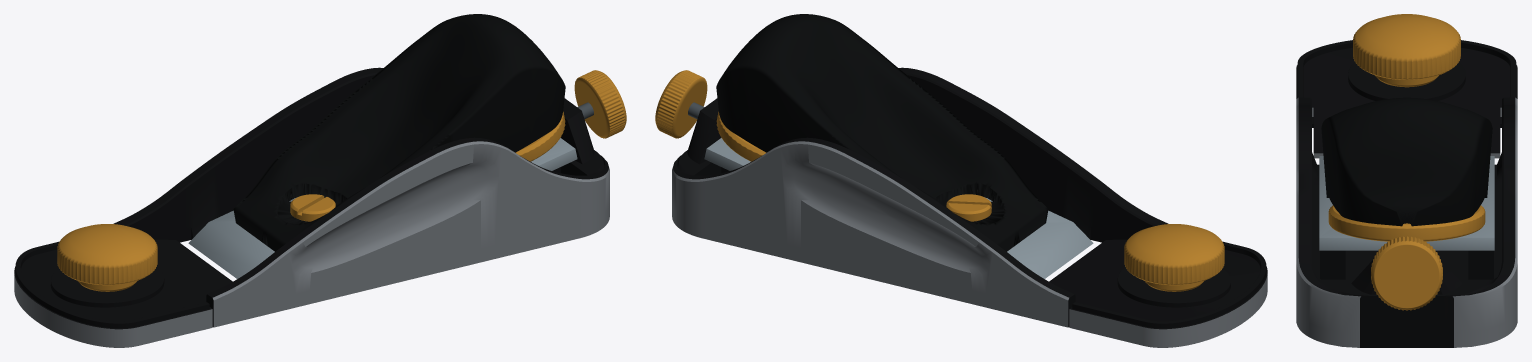
The picture shows the model from 3 angles, left to right: view 1: azimuth 30°, elevation 25°; view 2: azimuth 150°, elevation 25°; view 3: azimuth 270°, elevation 25°; orthographic projection. The views are drawn at different scales.
Parts seen in each view (by area): view 1: part_007_Main_casting, part_003_Palm_lever_cap, part_006_Main_casting, part_000_Sliding_mouth_toe, part_005_Mouth_locking_knob, part_001_Sliding_mouth_toe, part_011_Bevel-up_blade, part_002_Rear_adjuster_wheel, part_009_Cap_retaining_screw, part_010_Cap_pressure_wheel; view 2: part_007_Main_casting, part_003_Palm_lever_cap, part_006_Main_casting, part_000_Sliding_mouth_toe, part_005_Mouth_locking_knob, part_001_Sliding_mouth_toe, part_011_Bevel-up_blade, part_002_Rear_adjuster_wheel, part_009_Cap_retaining_screw, part_010_Cap_pressure_wheel; view 3: part_003_Palm_lever_cap, part_006_Main_casting, part_000_Sliding_mouth_toe, part_007_Main_casting, part_005_Mouth_locking_knob, part_002_Rear_adjuster_wheel, part_011_Bevel-up_blade, part_010_Cap_pressure_wheel.
Boxes of the visible parts, <box> form: part_007_Main_casting: <box>213,141,609,327</box>; part_003_Palm_lever_cap: <box>233,14,565,251</box>; part_006_Main_casting: <box>113,67,608,327</box>; part_000_Sliding_mouth_toe: <box>14,239,232,329</box>; part_005_Mouth_locking_knob: <box>57,224,157,291</box>; part_001_Sliding_mouth_toe: <box>14,274,212,347</box>; part_011_Bevel-up_blade: <box>188,138,577,278</box>; part_002_Rear_adjuster_wheel: <box>574,70,626,138</box>; part_009_Cap_retaining_screw: <box>290,194,335,221</box>; part_010_Cap_pressure_wheel: <box>515,111,565,161</box>; part_007_Main_casting: <box>672,141,1068,327</box>; part_003_Palm_lever_cap: <box>716,14,1048,251</box>; part_006_Main_casting: <box>673,67,1168,327</box>; part_000_Sliding_mouth_toe: <box>1049,239,1267,329</box>; part_005_Mouth_locking_knob: <box>1124,224,1224,291</box>; part_001_Sliding_mouth_toe: <box>1069,274,1267,347</box>; part_011_Bevel-up_blade: <box>704,138,1093,278</box>; part_002_Rear_adjuster_wheel: <box>655,70,707,138</box>; part_009_Cap_retaining_screw: <box>946,194,991,221</box>; part_010_Cap_pressure_wheel: <box>716,111,766,161</box>; part_003_Palm_lever_cap: <box>1321,97,1492,226</box>; part_006_Main_casting: <box>1298,97,1515,347</box>; part_000_Sliding_mouth_toe: <box>1296,40,1517,153</box>; part_007_Main_casting: <box>1296,97,1517,347</box>; part_005_Mouth_locking_knob: <box>1353,14,1460,87</box>; part_002_Rear_adjuster_wheel: <box>1371,236,1442,310</box>; part_011_Bevel-up_blade: <box>1319,156,1494,250</box>; part_010_Cap_pressure_wheel: <box>1328,205,1485,241</box>.
Bounding box in the file's own units: 0.1694 × 0.0521 × 0.052.
